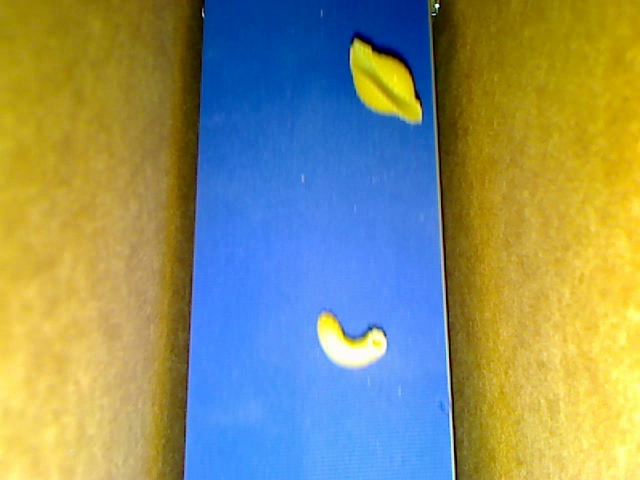elbow: (317, 311, 388, 370)
shell: (348, 38, 422, 124)
